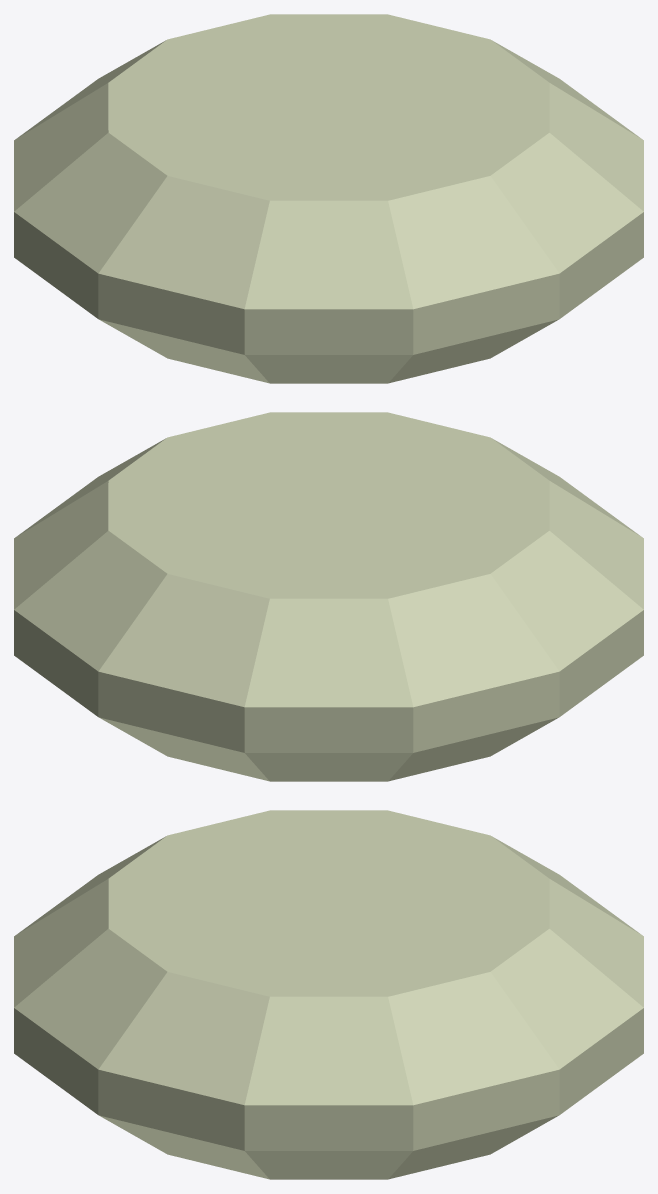
The model's file is 1f_avionics_s0_1_collider.obj.
The picture shows the model from 3 angles, top to bottom: view 1: azimuth 30°, elevation 25°; view 2: azimuth 150°, elevation 25°; view 3: azimuth 270°, elevation 25°; orthographic projection.
Visible parts, largest first — view 1: collider; view 2: collider; view 3: collider.
Boxes of the visible parts, <box> form: collider: <box>14,14,643,383</box>; collider: <box>14,412,643,781</box>; collider: <box>14,810,643,1179</box>.
Size of the model in its own units: 1.25 by 0.4 by 1.25.
